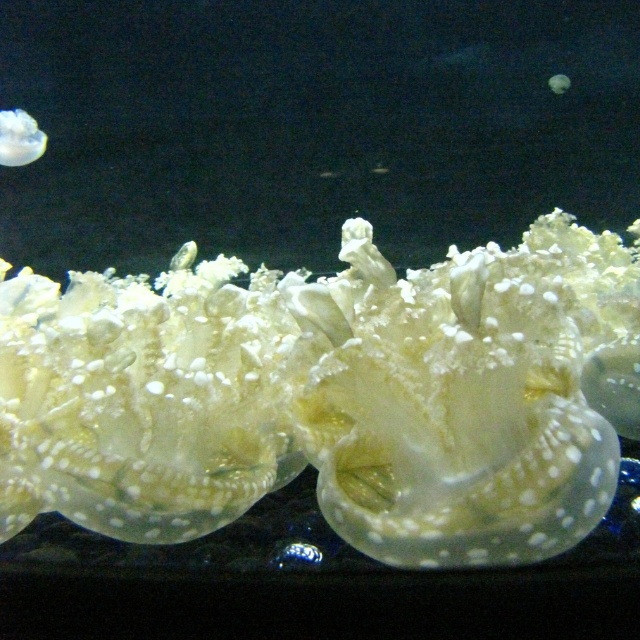Jellyfish: (254, 214, 619, 574), (0, 245, 331, 548)
